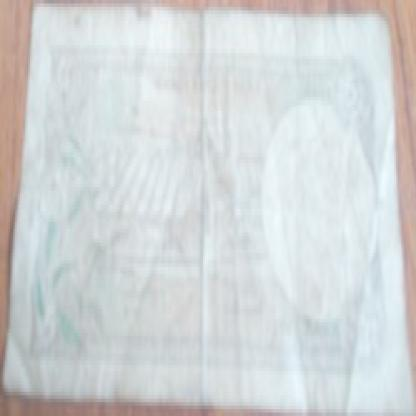Five Taka: (338, 52, 366, 118), (53, 42, 73, 94)
